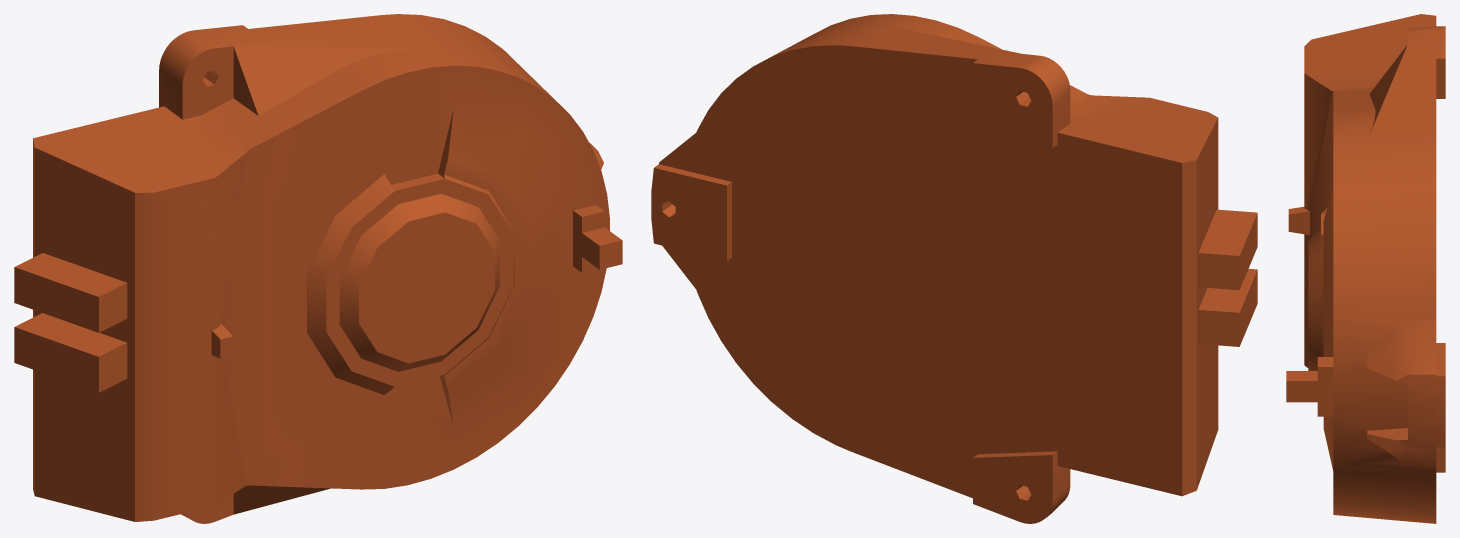
The picture shows the model from 3 angles, left to right: view 1: azimuth 30°, elevation 25°; view 2: azimuth 150°, elevation 25°; view 3: azimuth 270°, elevation 25°; orthographic projection. The views are drawn at different scales.
Parts seen in each view (by area): view 1: Base_Link; view 2: Base_Link; view 3: Base_Link.
Part boxes in pixels (x1=…): Base_Link: x1=14, y1=14, x2=622, y2=523; Base_Link: x1=651, y1=14, x2=1257, y2=523; Base_Link: x1=1286, y1=14, x2=1445, y2=523.
Bounding box in the file's own units: 0.7788 × 0.5999 × 0.203.
